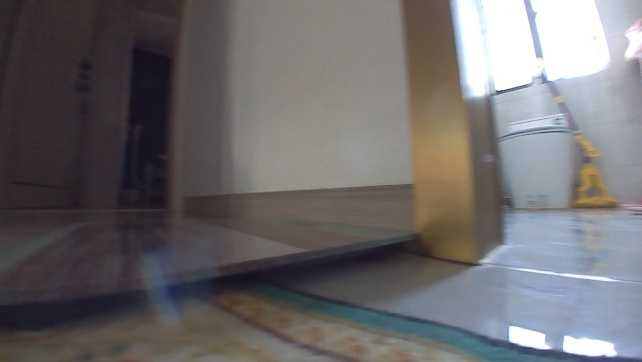blanket: (0, 277, 622, 361)
toilet: (495, 115, 579, 208)
